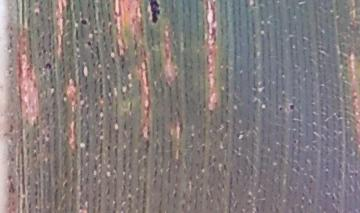tarspot: (144, 1, 165, 25), (40, 60, 55, 73), (77, 15, 90, 28), (287, 101, 297, 115), (82, 38, 96, 48)
